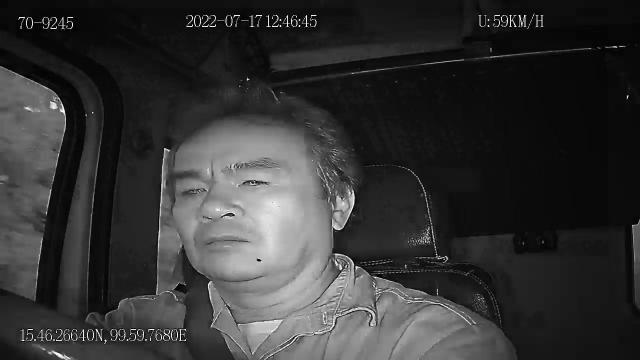SafeDriving: (230, 166, 281, 194), (172, 174, 212, 204)
Seatbelt: (182, 286, 238, 360)
